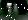person: (8, 5, 13, 13)
